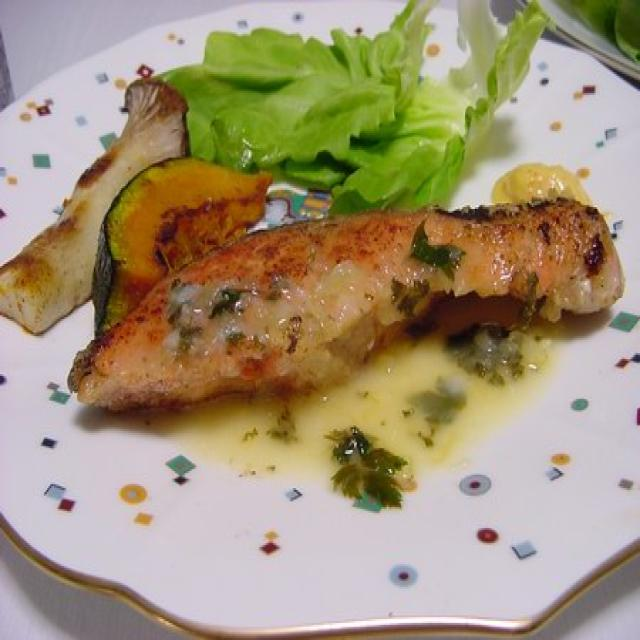熟制海鲜: (90, 69, 608, 448)
